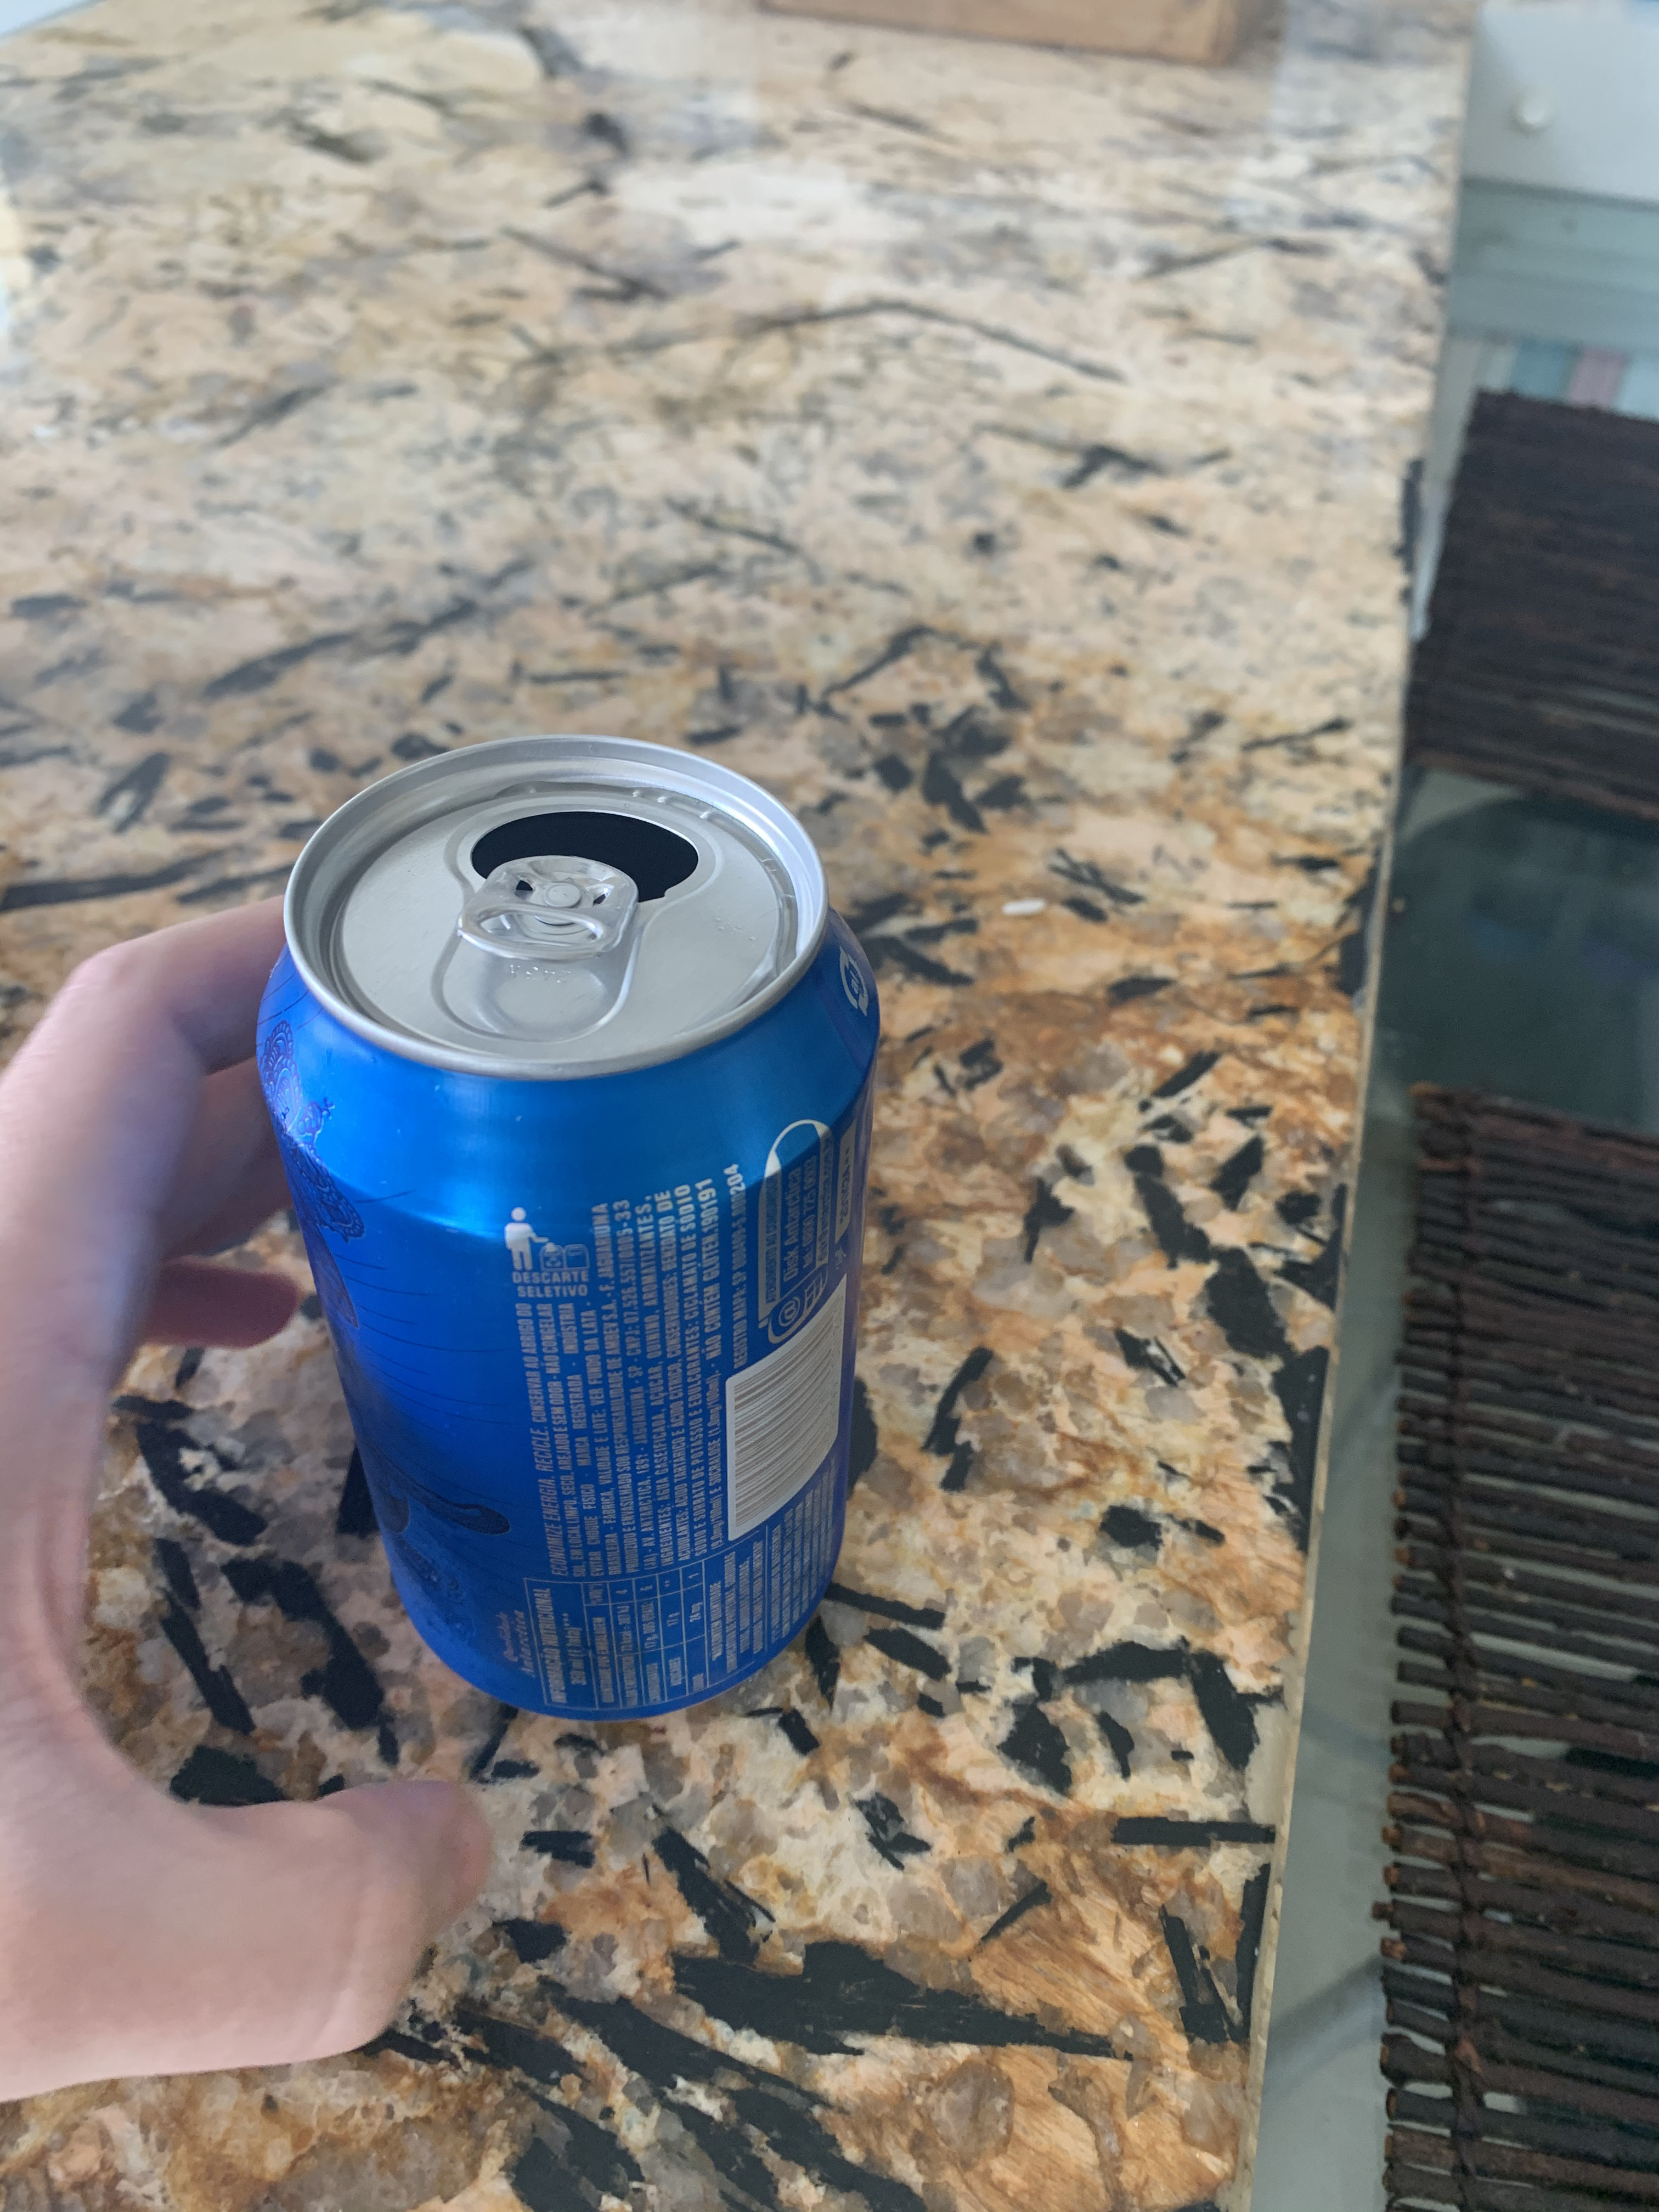tonica: (202, 730, 882, 1778)
